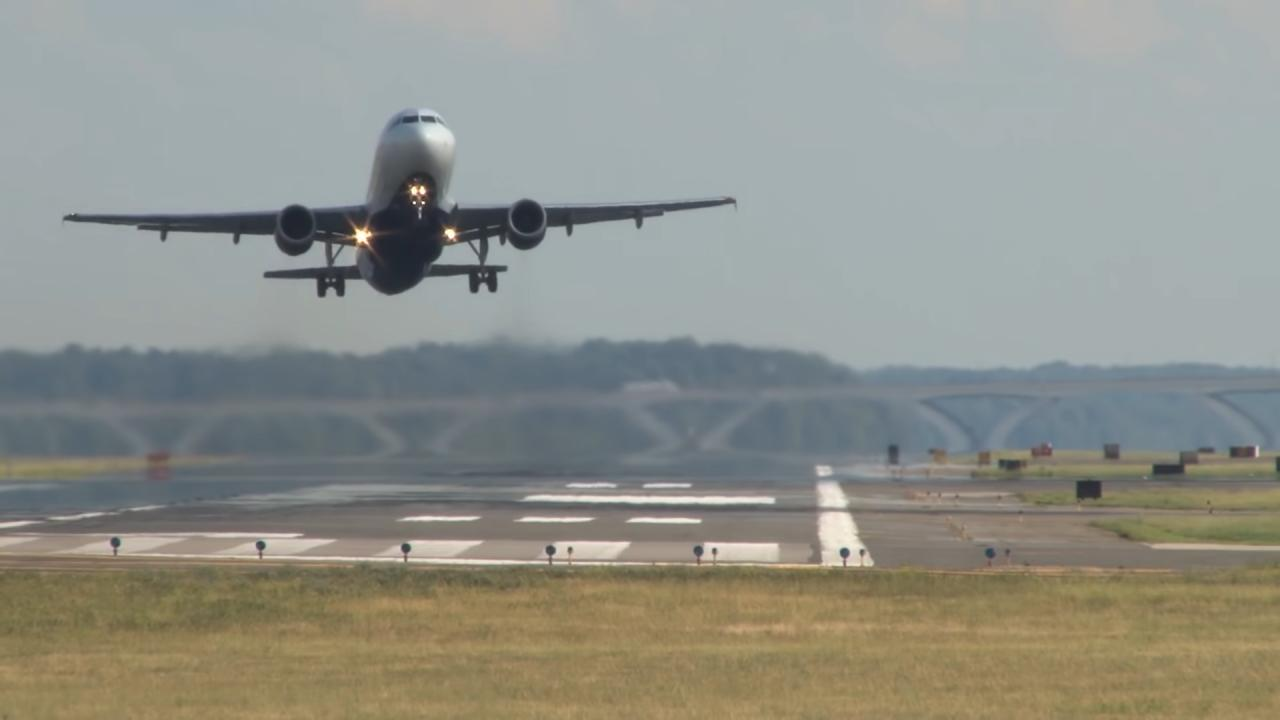Airplane: (50, 96, 750, 313)
